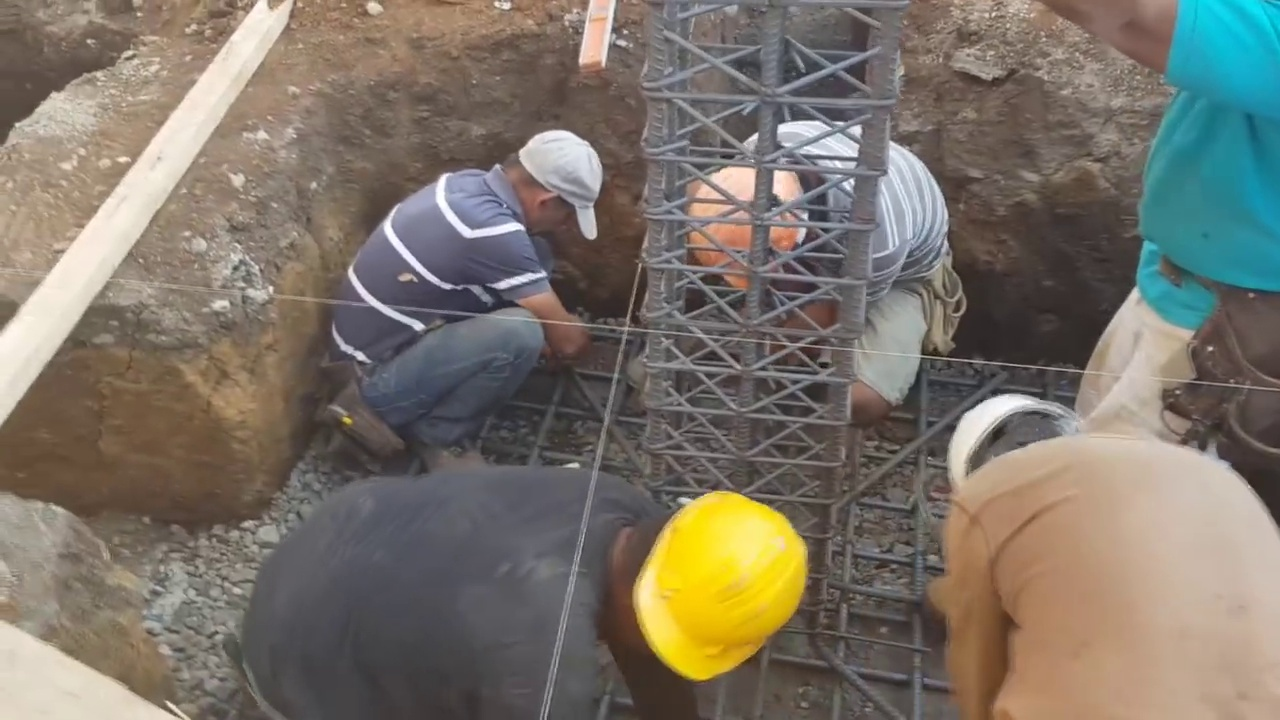helmet: (638, 495, 812, 677), (949, 387, 1078, 498), (691, 161, 801, 287)
helmet-off: (501, 123, 608, 254)
helmet-on: (596, 487, 811, 683), (694, 155, 835, 290), (948, 378, 1087, 504)
person: (212, 468, 808, 720), (926, 387, 1280, 720), (321, 102, 620, 468), (1070, 0, 1280, 486), (692, 114, 972, 424)
